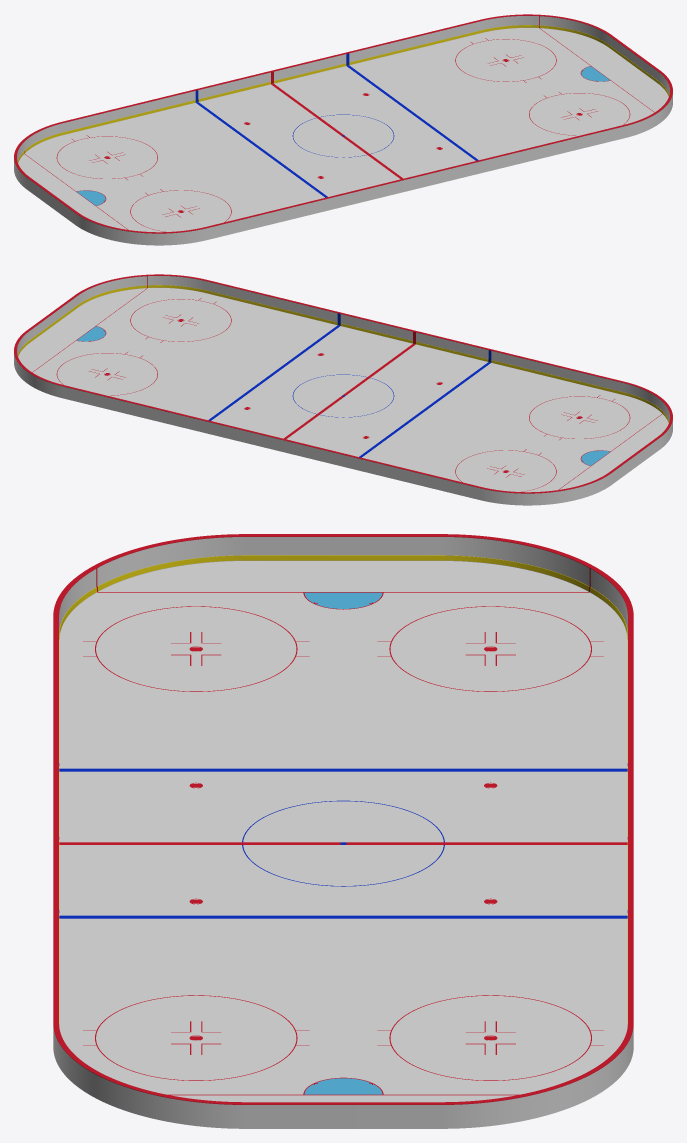
Rendered from newrink.fbx.
3 renders of one model, top to bottom at view 1: azimuth 30°, elevation 25°; view 2: azimuth 150°, elevation 25°; view 3: azimuth 270°, elevation 25°, orthographic. The views are drawn at different scales.
Visible parts, largest first — view 1: ID11, ID379, ID247, ID319, ID265, SketchUp, ID93, ID81, ID511, ID505, ID87, ID143 (+7 smaller); view 2: ID11, ID319, ID265, ID379, ID247, SketchUp, ID63, ID69, ID511, ID505, ID87, ID161 (+7 smaller); view 3: ID11, ID247, ID265, ID319, ID379, SketchUp, ID75, ID511, ID505, ID27, ID105, ID113 (+2 smaller).
Boxes of the visible parts, bbox=[...] form: ID11: bbox=[14, 27, 672, 245]; ID379: bbox=[456, 39, 555, 81]; ID247: bbox=[57, 136, 157, 178]; ID319: bbox=[529, 93, 629, 135]; ID265: bbox=[131, 190, 230, 231]; SketchUp: bbox=[14, 14, 672, 233]; ID93: bbox=[349, 16, 538, 62]; ID81: bbox=[24, 91, 195, 150]; ID511: bbox=[293, 118, 366, 157]; ID505: bbox=[320, 115, 393, 153]; ID87: bbox=[539, 16, 669, 94]; ID143: bbox=[198, 72, 270, 99]; ID11: bbox=[14, 287, 672, 505]; ID319: bbox=[131, 299, 230, 341]; ID265: bbox=[529, 396, 629, 438]; ID379: bbox=[57, 353, 157, 395]; ID247: bbox=[456, 450, 555, 491]; SketchUp: bbox=[14, 274, 672, 493]; ID63: bbox=[148, 276, 337, 322]; ID69: bbox=[491, 351, 662, 410]; ID511: bbox=[320, 378, 393, 417]; ID505: bbox=[293, 375, 366, 413]; ID87: bbox=[17, 276, 147, 354]; ID161: bbox=[416, 332, 488, 359]; ID11: bbox=[53, 560, 633, 1128]; ID247: bbox=[390, 606, 590, 691]; ID265: bbox=[96, 606, 296, 691]; ID319: bbox=[96, 995, 296, 1080]; ID379: bbox=[390, 995, 590, 1080]; SketchUp: bbox=[53, 534, 633, 1104]; ID75: bbox=[97, 537, 589, 586]; ID511: bbox=[243, 801, 443, 842]; ID505: bbox=[243, 845, 443, 885]; ID27: bbox=[98, 555, 588, 591]; ID105: bbox=[59, 915, 627, 918]; ID113: bbox=[59, 768, 627, 771].
Size of the model in its own units: 2421 by 1041 by 48.
